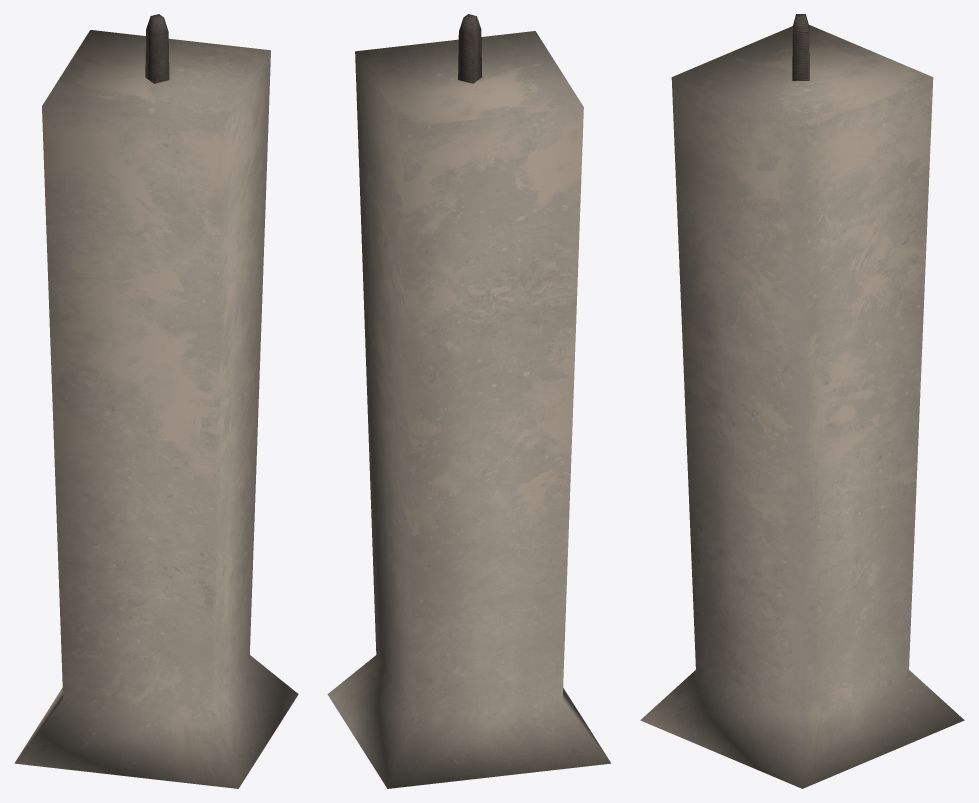
The model's file is candle_lowpoly.fbx.
3 views of the same model, side by side, from view 1: azimuth 30°, elevation 25°; view 2: azimuth 150°, elevation 25°; view 3: azimuth 270°, elevation 25° (orthographic).
Visible parts, largest first — view 1: candle.lowpoly; view 2: candle.lowpoly; view 3: candle.lowpoly.
Boxes of the visible parts, x1,y1,x2,y2 form: candle.lowpoly: (14, 14, 298, 788); candle.lowpoly: (327, 14, 611, 788); candle.lowpoly: (640, 14, 964, 788).
Bounding box in the file's own units: 3.88 × 9.29 × 3.88.
